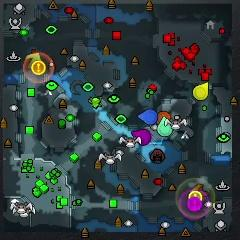Other: (32, 60, 46, 75), (188, 197, 202, 212), (189, 191, 203, 202)
p1: (138, 110, 157, 123)
p2: (156, 116, 172, 136)
p3: (131, 129, 151, 144)
p4: (192, 82, 209, 100)
p5: (157, 110, 171, 121)
x2: (27, 52, 41, 68)
x5: (190, 183, 208, 196)
